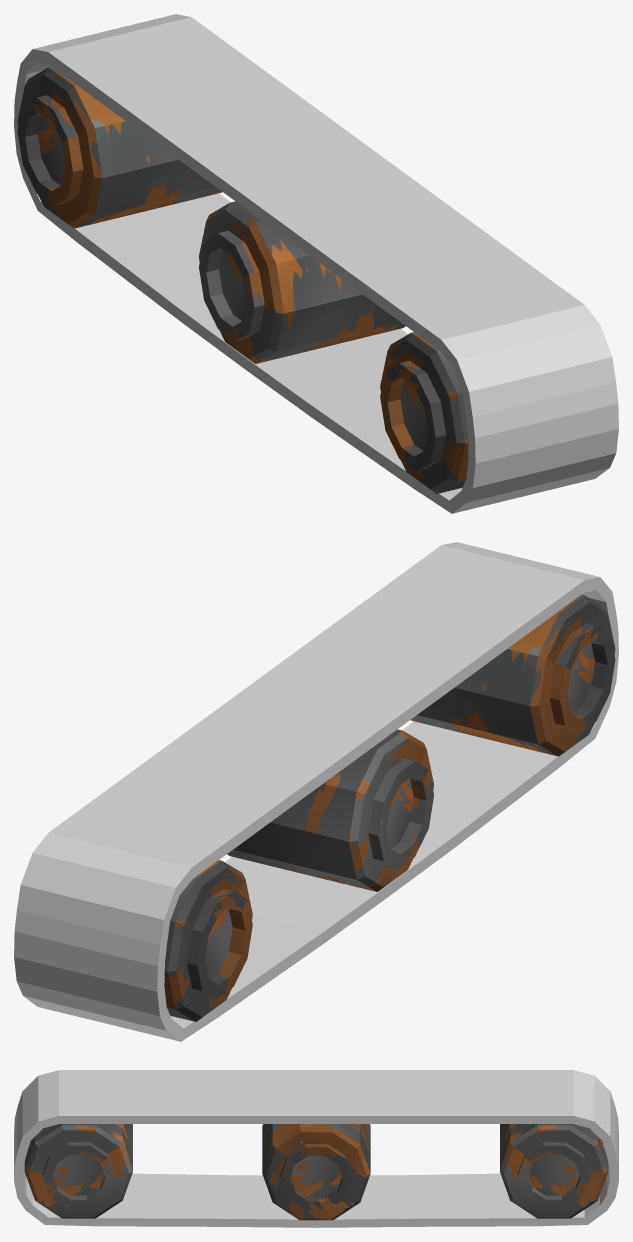
The model's file is ConveyerBelt.fbx.
3 renders of one model, top to bottom at view 1: azimuth 30°, elevation 25°; view 2: azimuth 150°, elevation 25°; view 3: azimuth 270°, elevation 25°, orthographic. The views are drawn at different scales.
Visible parts, largest first — view 1: Plane, Cylinder.003, Cylinder.002; view 2: Plane, Cylinder.003, Cylinder.002; view 3: Plane, Cylinder.003, Cylinder.002.
Boxes of the visible parts, <box> form: Plane: <box>14,14,618,513</box>; Cylinder.003: <box>17,66,468,493</box>; Cylinder.002: <box>199,201,405,363</box>; Plane: <box>14,542,618,1041</box>; Cylinder.003: <box>164,594,615,1021</box>; Cylinder.002: <box>227,729,433,891</box>; Plane: <box>14,1070,618,1227</box>; Cylinder.003: <box>24,1124,608,1218</box>; Cylinder.002: <box>262,1124,370,1220</box>.
Size of the model in its own units: 251 by 231 by 1115.
